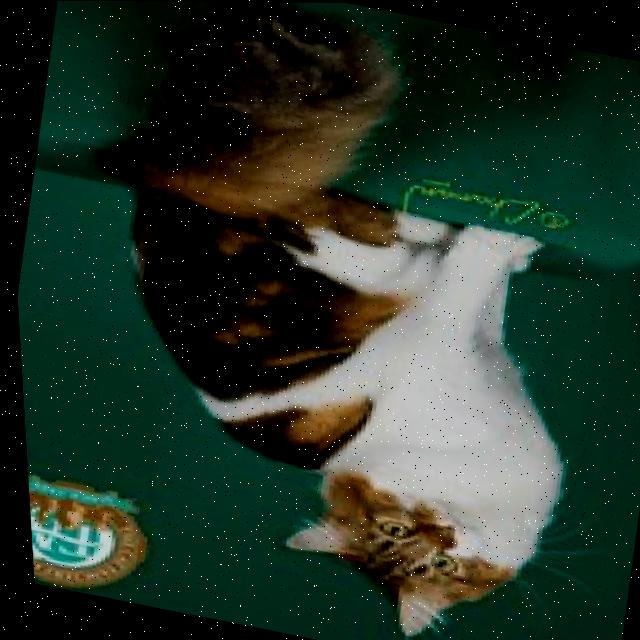Maine Coon: (23, 0, 640, 640)
